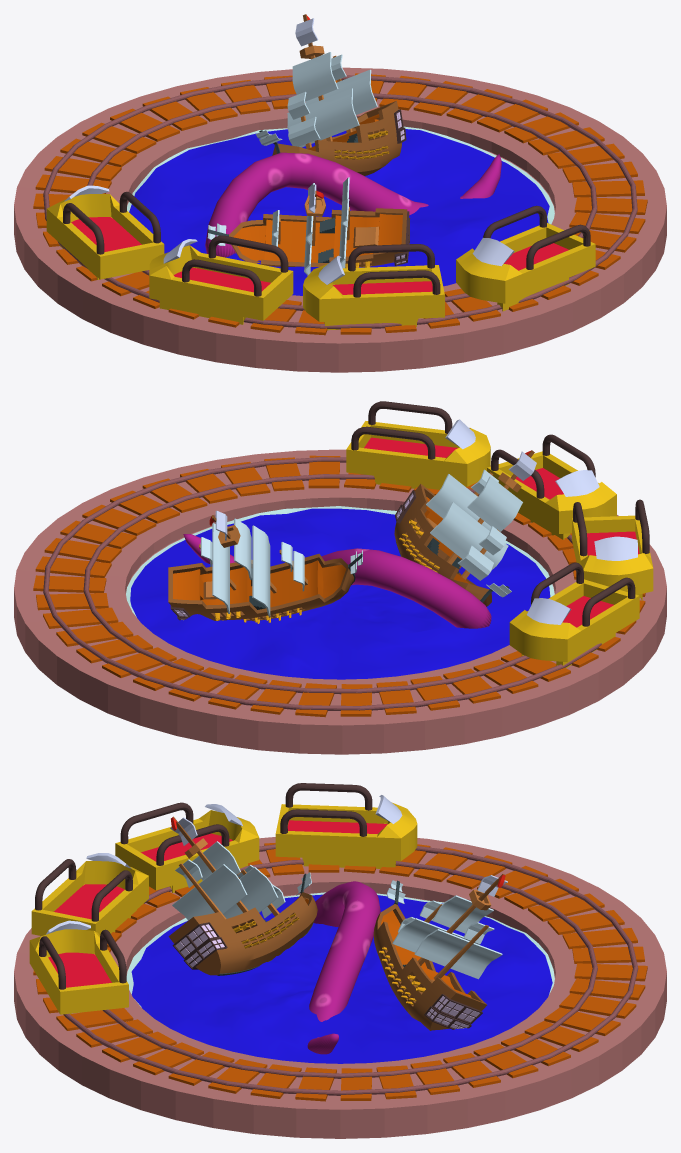
Rendered from FastTrain1.2.fbx.
The picture shows the model from 3 angles, top to bottom: view 1: azimuth 30°, elevation 25°; view 2: azimuth 150°, elevation 25°; view 3: azimuth 270°, elevation 25°; orthographic projection.
Parts seen in each view (by area): view 1: BezierCircle.002, Cube.009, Cube.002, BezierCircle.003, Cube.003, Cube.008, Circle.001, Cylinder.002; view 2: BezierCircle.002, BezierCircle.003, Cube.009, Cube.002, Cube.003, Cube.008, Circle.001, Cylinder.002; view 3: BezierCircle.002, BezierCircle.003, Cube.009, Cube.002, Cube.008, Cube.003, Circle.001, Cylinder.002.
Boxes of the visible parts, <box> form: BezierCircle.002: <box>14,67,666,372</box>; Cube.009: <box>46,185,595,330</box>; Cube.002: <box>33,73,647,335</box>; BezierCircle.003: <box>127,126,554,295</box>; Cube.003: <box>255,14,406,175</box>; Cube.008: <box>207,177,410,275</box>; Circle.001: <box>43,75,637,329</box>; Cylinder.002: <box>205,152,501,257</box>; BezierCircle.002: <box>14,449,666,754</box>; BezierCircle.003: <box>126,506,554,679</box>; Cube.009: <box>346,401,653,668</box>; Cube.002: <box>33,455,645,717</box>; Cube.003: <box>168,510,362,623</box>; Cube.008: <box>394,450,536,606</box>; Circle.001: <box>43,457,601,710</box>; Cylinder.002: <box>183,534,491,628</box>; BezierCircle.002: <box>14,837,666,1138</box>; BezierCircle.003: <box>126,892,554,1063</box>; Cube.009: <box>29,783,417,1014</box>; Cube.002: <box>33,843,647,1101</box>; Cube.008: <box>168,816,317,975</box>; Cube.003: <box>373,874,507,1030</box>; Circle.001: <box>63,844,638,1095</box>; Cylinder.002: <box>307,881,380,1054</box>.
Size of the model in its own units: 752 by 218 by 752.
